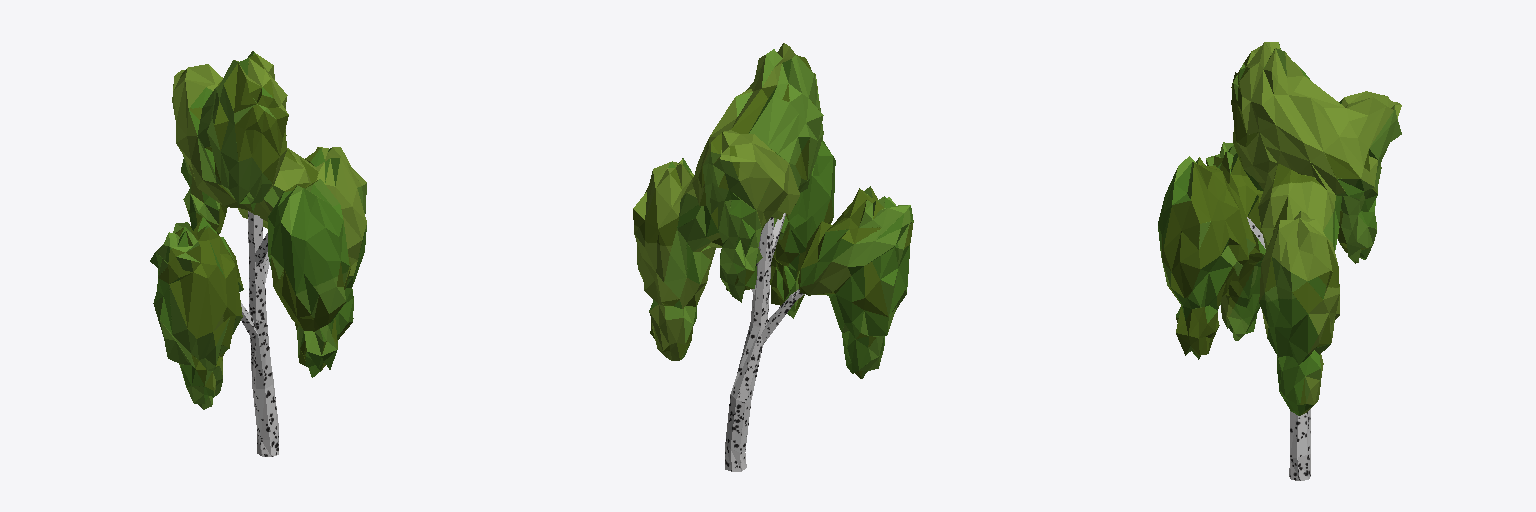
The picture shows the model from 3 angles: view 1: azimuth 30°, elevation 25°; view 2: azimuth 150°, elevation 25°; view 3: azimuth 270°, elevation 25°; orthographic projection.
Parts seen in each view (by area): view 1: _10_tree__10_tree_0__10_tree__10_tree_0.001; view 2: _10_tree__10_tree_0__10_tree__10_tree_0.001; view 3: _10_tree__10_tree_0__10_tree__10_tree_0.001.
Boxes of the visible parts, x1=… form: _10_tree__10_tree_0__10_tree__10_tree_0.001: x1=150, y1=51, x2=366, y2=456; _10_tree__10_tree_0__10_tree__10_tree_0.001: x1=633, y1=43, x2=913, y2=471; _10_tree__10_tree_0__10_tree__10_tree_0.001: x1=1158, y1=42, x2=1401, y2=480.
Bounding box in the file's own units: 1.16 × 1.97 × 1.04.
Materials: 1 (1 with a texture image).